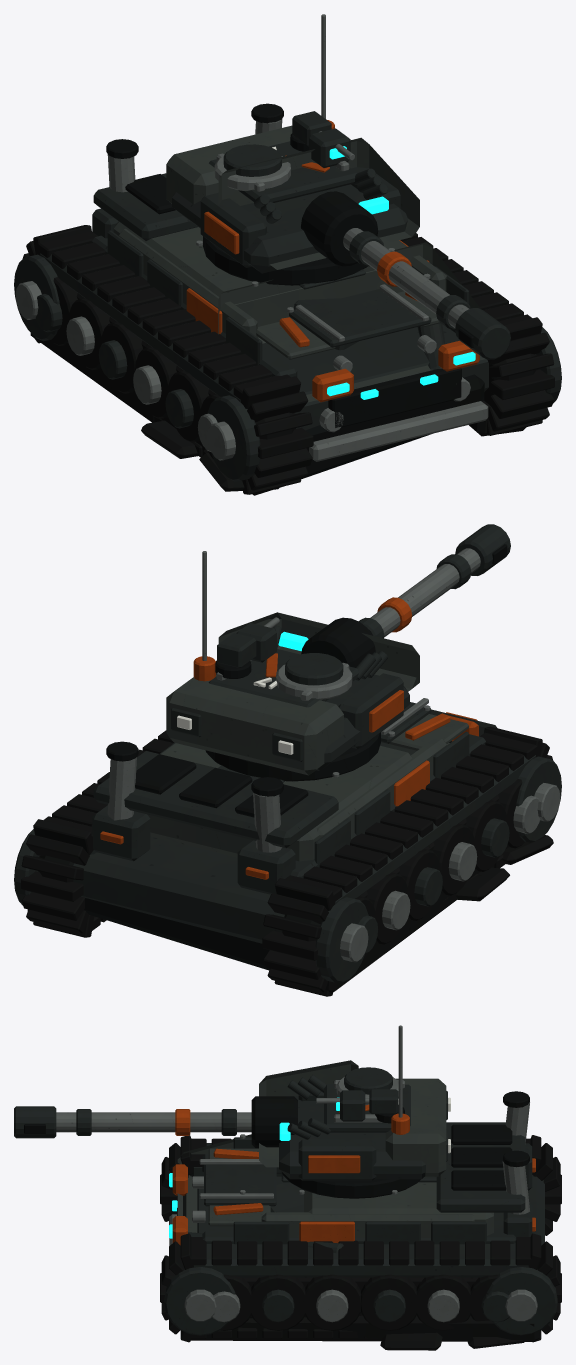
File: ff_mbt_01_v1.glb
3 renders of one model, top to bottom at view 1: azimuth 30°, elevation 25°; view 2: azimuth 150°, elevation 25°; view 3: azimuth 270°, elevation 25°, orthographic. The views are drawn at different scales.
Visible parts, largest first — view 1: chassis_root_M_TrackRubber_runtime, chassis_root_M_Gunmetal_runtime, turret_yaw_M_Gunmetal_runtime, chassis_root_M_ArmorPanel_runtime, chassis_root_M_Steel_runtime, turret_yaw_M_ArmorPanel_runtime, chassis_root_M_Recess_runtime, barrel_pitch_M_Recess_runtime, wreck_track_debris, chassis_root_M_AmberArmor_runtime, barrel_pitch_M_Gunmetal_runtime, turret_yaw_M_Recess_runtime (+6 smaller); view 2: chassis_root_M_Gunmetal_runtime, chassis_root_M_TrackRubber_runtime, turret_yaw_M_ArmorPanel_runtime, turret_yaw_M_Gunmetal_runtime, chassis_root_M_ArmorPanel_runtime, chassis_root_M_Steel_runtime, chassis_root_M_Recess_runtime, wreck_chassis, wreck_track_debris, turret_yaw_M_Recess_runtime, barrel_pitch_M_Recess_runtime, barrel_pitch_M_Steel_runtime (+4 smaller); view 3: chassis_root_M_Gunmetal_runtime, chassis_root_M_TrackRubber_runtime, turret_yaw_M_Gunmetal_runtime, chassis_root_M_ArmorPanel_runtime, chassis_root_M_Steel_runtime, turret_yaw_M_ArmorPanel_runtime, wreck_track_debris, chassis_root_M_Recess_runtime, barrel_pitch_M_Steel_runtime, chassis_root_M_AmberArmor_runtime, barrel_pitch_M_Recess_runtime, turret_yaw_M_Recess_runtime (+5 smaller).
Part boxes in pixels (left/top/right/bottom): chassis_root_M_TrackRubber_runtime: left=22, top=225, right=554, bottom=494; chassis_root_M_Gunmetal_runtime: left=14, top=173, right=561, bottom=481; turret_yaw_M_Gunmetal_runtime: left=172, top=111, right=407, bottom=273; chassis_root_M_ArmorPanel_runtime: left=113, top=221, right=485, bottom=402; chassis_root_M_Steel_runtime: left=15, top=119, right=488, bottom=461; turret_yaw_M_ArmorPanel_runtime: left=166, top=125, right=419, bottom=269; chassis_root_M_Recess_runtime: left=106, top=103, right=461, bottom=427; barrel_pitch_M_Recess_runtime: left=301, top=191, right=473, bottom=347; wreck_track_debris: left=30, top=333, right=526, bottom=495; chassis_root_M_AmberArmor_runtime: left=186, top=240, right=479, bottom=402; barrel_pitch_M_Gunmetal_runtime: left=349, top=231, right=510, bottom=359; turret_yaw_M_Recess_runtime: left=203, top=133, right=367, bottom=285; chassis_root_M_Gunmetal_runtime: left=14, top=702, right=561, bottom=983; chassis_root_M_TrackRubber_runtime: left=21, top=726, right=553, bottom=996; turret_yaw_M_ArmorPanel_runtime: left=166, top=612, right=419, bottom=775; turret_yaw_M_Gunmetal_runtime: left=171, top=623, right=409, bottom=770; chassis_root_M_ArmorPanel_runtime: left=147, top=709, right=497, bottom=861; chassis_root_M_Steel_runtime: left=107, top=698, right=560, bottom=962; chassis_root_M_Recess_runtime: left=106, top=741, right=451, bottom=817; wreck_chassis: left=84, top=898, right=269, bottom=970; wreck_track_debris: left=27, top=835, right=553, bottom=993; turret_yaw_M_Recess_runtime: left=205, top=660, right=380, bottom=781; barrel_pitch_M_Recess_runtime: left=301, top=544, right=507, bottom=667; barrel_pitch_M_Steel_runtime: left=370, top=548, right=480, bottom=636; chassis_root_M_Gunmetal_runtime: left=164, top=1122, right=557, bottom=1335; chassis_root_M_TrackRubber_runtime: left=160, top=1135, right=561, bottom=1342; turret_yaw_M_Gunmetal_runtime: left=279, top=1067, right=447, bottom=1180; chassis_root_M_ArmorPanel_runtime: left=177, top=1134, right=493, bottom=1237; chassis_root_M_Steel_runtime: left=169, top=1102, right=537, bottom=1322; turret_yaw_M_ArmorPanel_runtime: left=259, top=1060, right=446, bottom=1176; wreck_track_debris: left=191, top=1315, right=540, bottom=1350; chassis_root_M_Recess_runtime: left=177, top=1091, right=529, bottom=1216; barrel_pitch_M_Steel_runtime: left=56, top=1112, right=251, bottom=1132; chassis_root_M_AmberArmor_runtime: left=172, top=1148, right=535, bottom=1245; barrel_pitch_M_Recess_runtime: left=24, top=1096, right=297, bottom=1148; turret_yaw_M_Recess_runtime: left=282, top=1105, right=420, bottom=1198.
Size of the model in its own units: 3.94 by 3.75 by 6.49.
8 materials, 6 textured.
